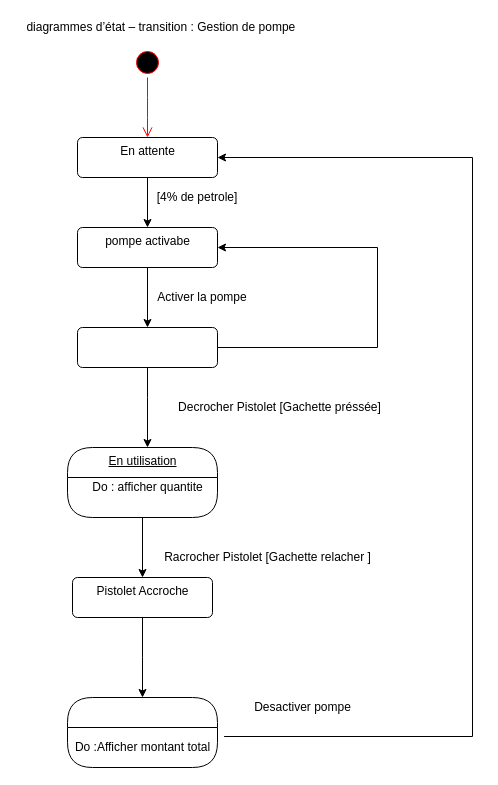
Image size: 498x785. Some labels were removed from this diagram. Each missing label, with the box of its shape:
Arrêter distribution: (66, 696, 218, 768)
Pompe activée: (76, 326, 218, 368)
